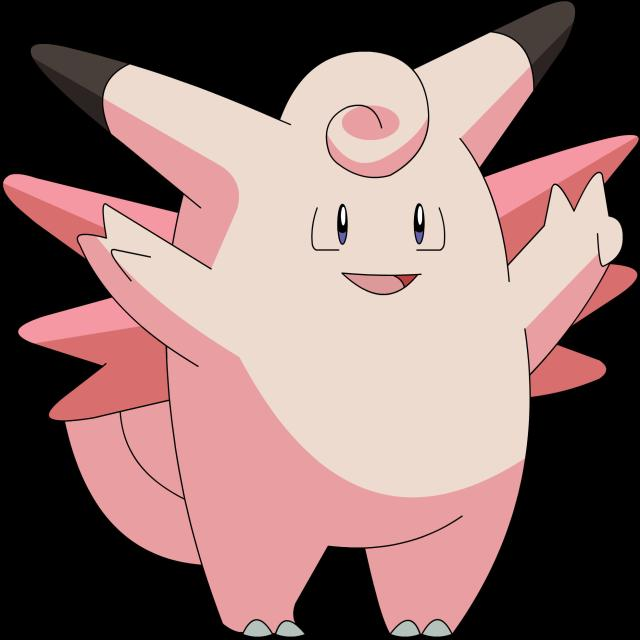Clefable: (75, 46, 565, 640)
